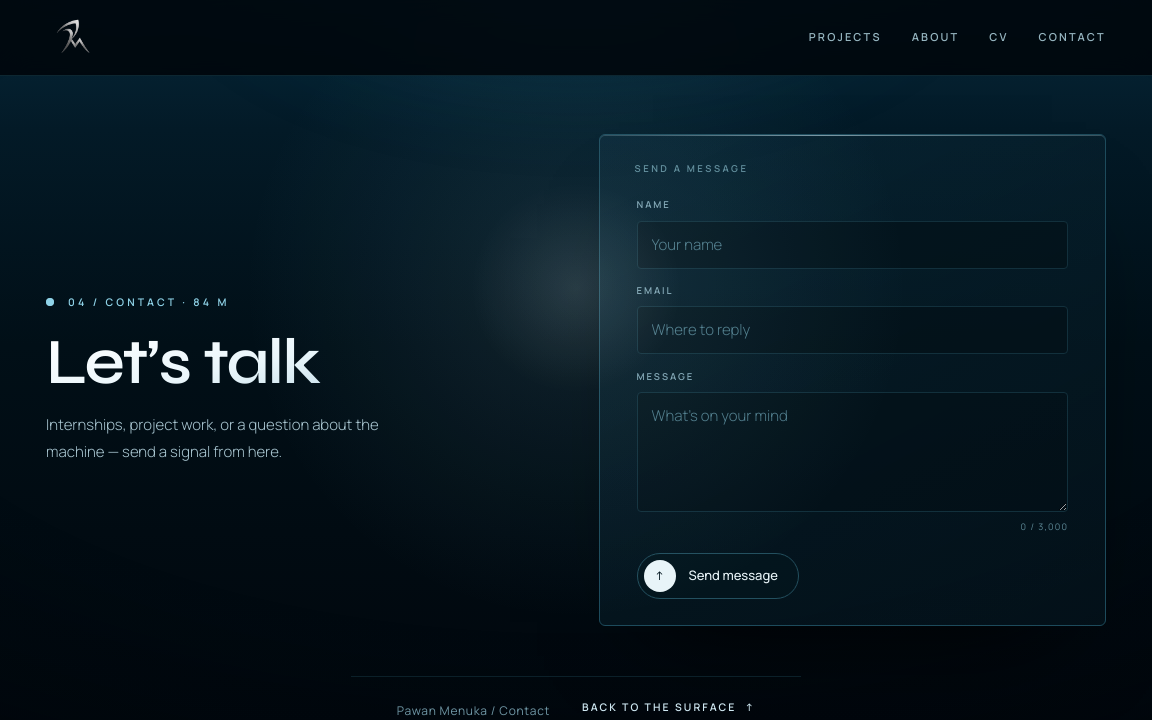
Test: Contact (all submissions mocked; no network writes) › times out without claiming a failed delivery or erasing the message
Type "Test" into the field labelled "Name" at point(852, 245), box x1=637 y1=221 x2=1068 y2=269
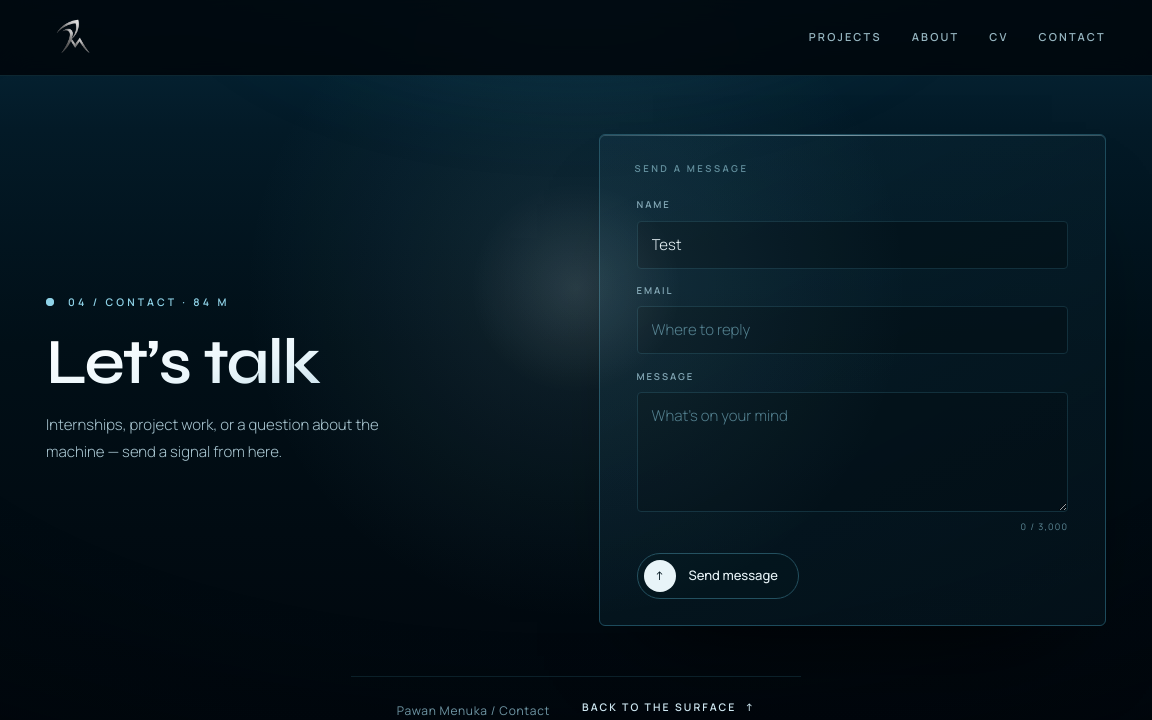
Type "test@example.com" into the field labelled "Email" at point(852, 330), box x1=637 y1=306 x2=1068 y2=354
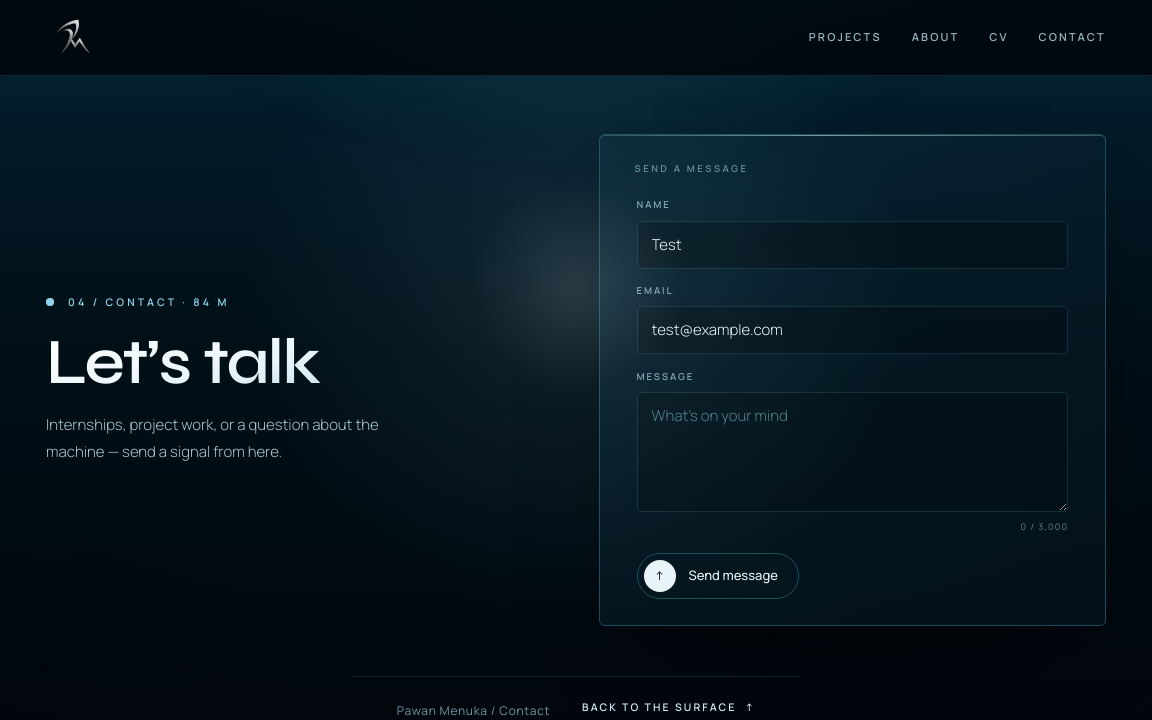
Type "A long enough test message." into the text box labelled "Message" at point(852, 452), box x1=637 y1=392 x2=1068 y2=512
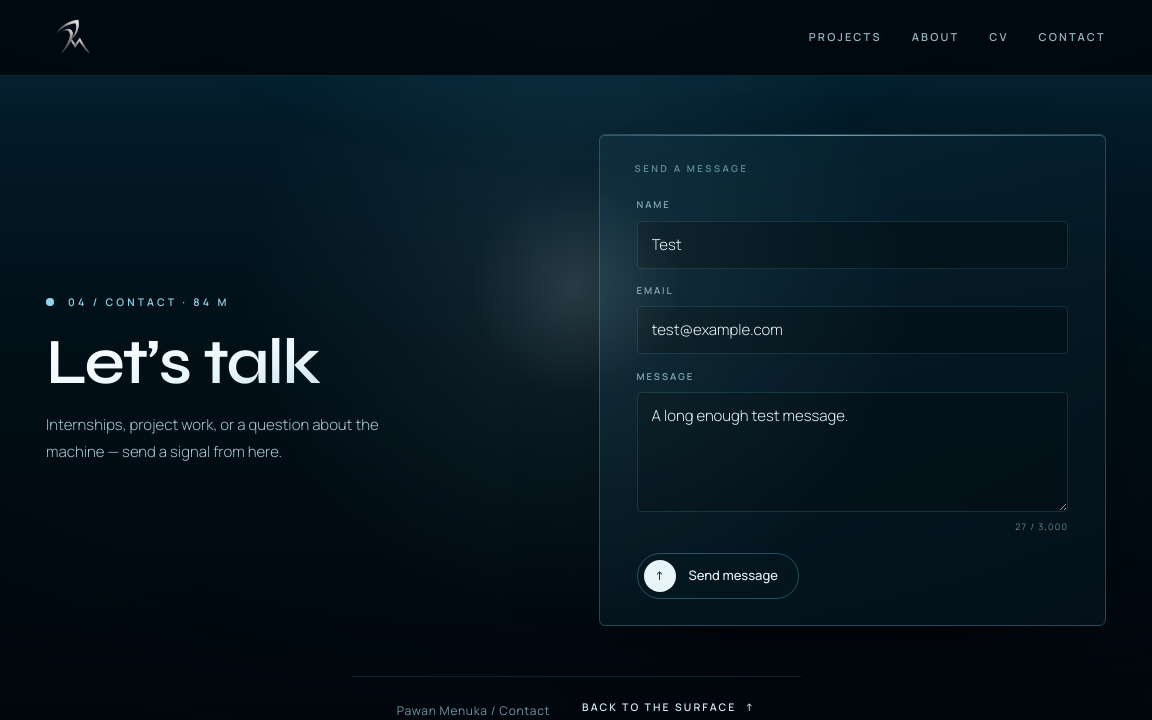
Submit the form named "Contact form", box x1=635 y1=161 x2=1070 y2=598
Wait 15001 ms
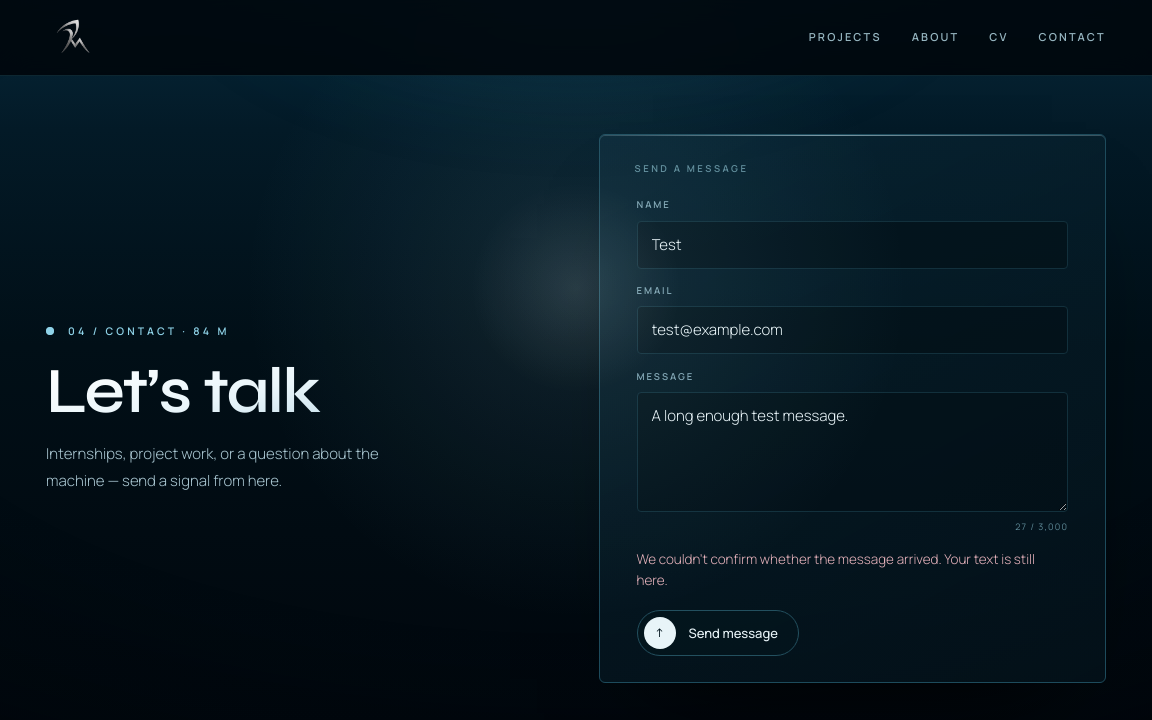
Expected: the message shows "couldn’t confirm whether", x1=637 y1=550 x2=1035 y2=589
